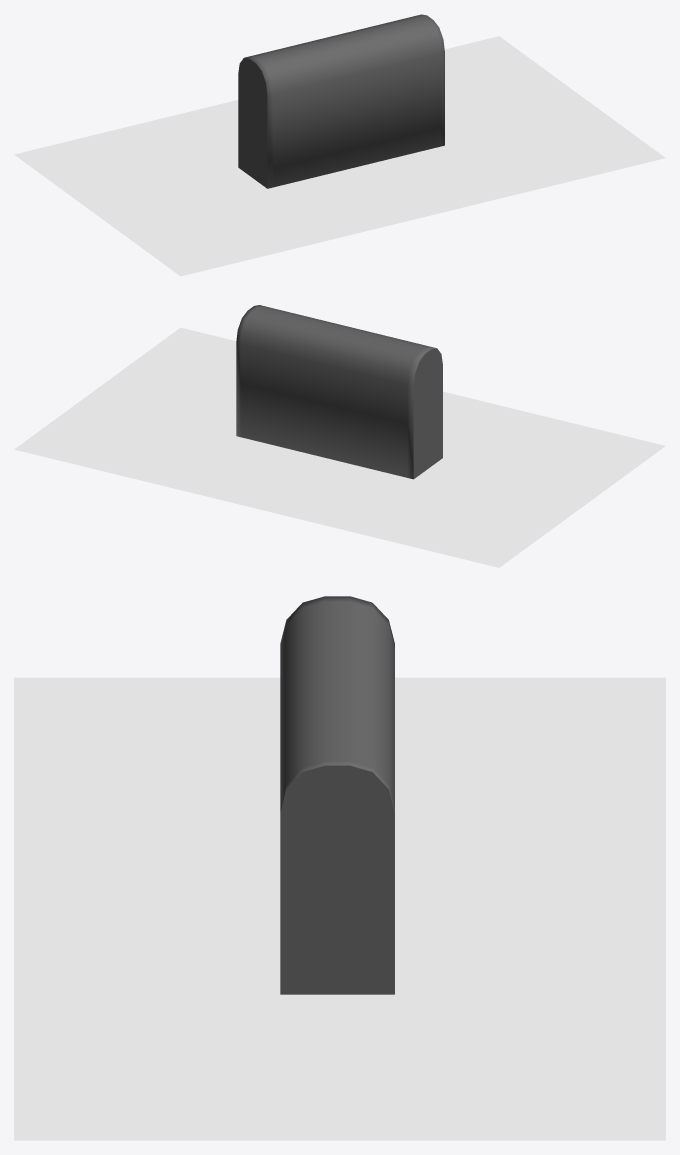
File: BasicObstacle.fbx
3 views of the same model, one above another, from view 1: azimuth 30°, elevation 25°; view 2: azimuth 150°, elevation 25°; view 3: azimuth 270°, elevation 25° (orthographic). The views are drawn at different scales.
Visible parts, largest first — view 1: Shadow, BasicObstacle; view 2: Shadow, BasicObstacle; view 3: Shadow, BasicObstacle.
Boxes of the visible parts, x1,y1,x2,y2 form: Shadow: (14,36,665,276); BasicObstacle: (238,14,444,188); Shadow: (14,327,665,567); BasicObstacle: (236,305,442,479); Shadow: (14,677,665,1140); BasicObstacle: (280,596,394,994).
Bounding box in the file's own units: 3.42 × 0.7985 × 2.03.
